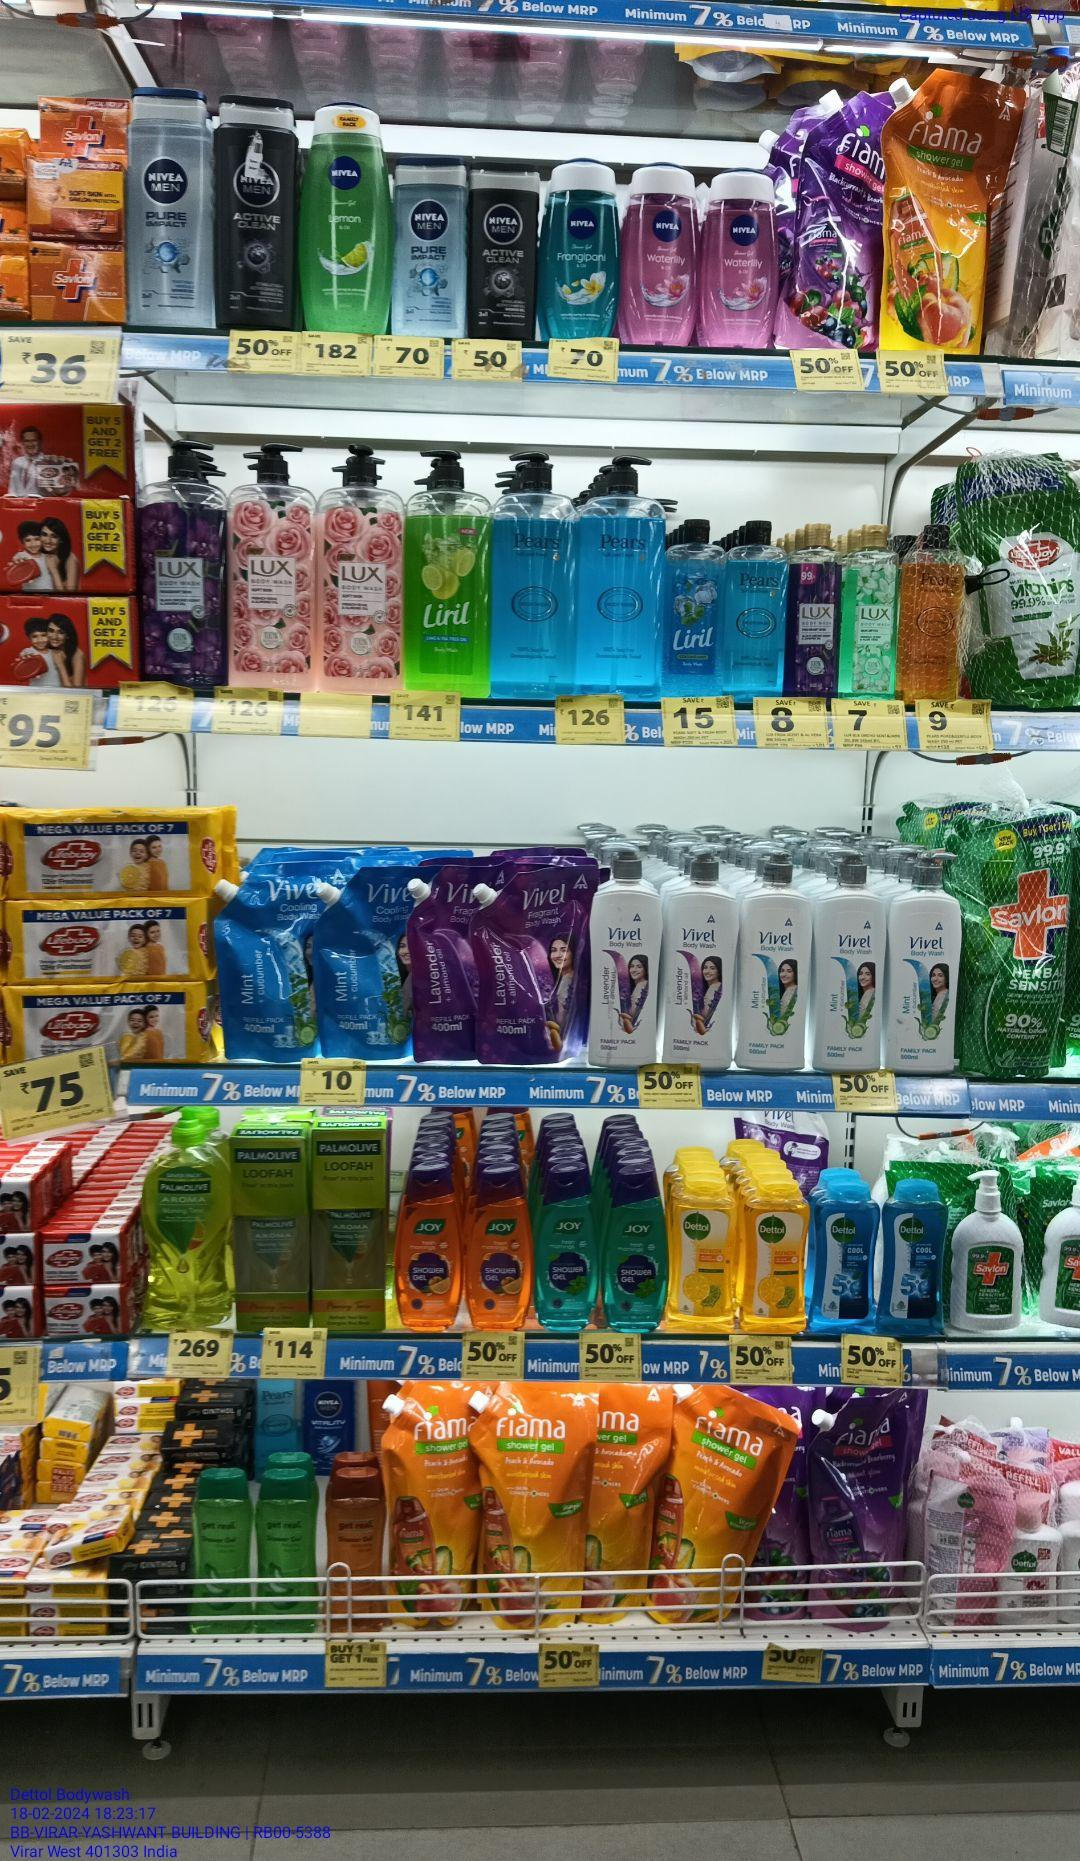Dettol_Bodywash_Cool: (813, 1176, 877, 1330), (881, 1181, 944, 1334)
Dettol_Bodywash_Refresh: (734, 1182, 810, 1340), (672, 1175, 735, 1325)
Joy_Shower_Gel_Mandarin_and_Lemongrass_250ML: (392, 1158, 460, 1331), (465, 1163, 530, 1326)
Joy_Shower_Gel_Mint_and_Eucalyptus_250ML: (602, 1163, 667, 1334), (534, 1162, 599, 1331)
Liril_Cooling_Mint_Body_Wash_250ML: (667, 519, 725, 695)
Lux_Black_Orchid_Scent_and_Juniper_Oil_Body_Wash_245ML: (786, 518, 838, 693)
Lux_Body_Wash_Skin_Detox_Freesia_Scent_and_Alove_Vera_245ML: (840, 522, 896, 695)
Nivea_Shower_Gel_Frangipani_and_Oil_250ML: (541, 163, 617, 338)
Nivea_Shower_Gel_Lemon_and_Oil_250ML: (302, 100, 390, 337)
Nivea_Shower_Gel_Waterlily_and_Oil_250ML: (699, 171, 775, 347), (622, 166, 696, 342)
Pears_Pure_Glycerin_and_Mint_Extracts_Body_Wash_250ML: (725, 519, 784, 694)
